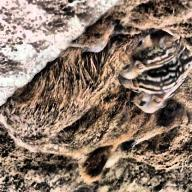boar: (2, 4, 191, 171), (128, 80, 191, 113)
